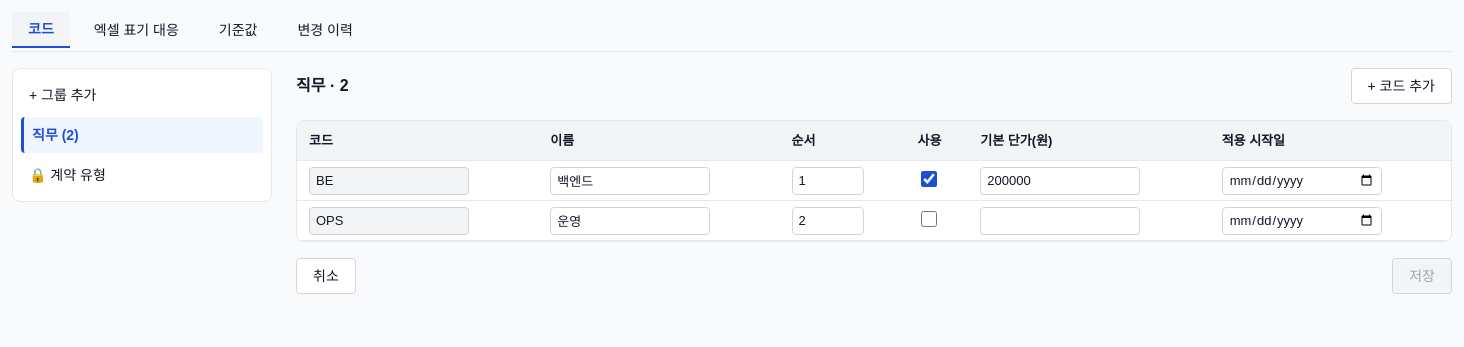
Test: 전체 목록 저장은 식별자 외 wire 필드만 전송하고 204 후 재조회한다
Replace the text in the field named "이름 1" with "새 이름" at (630, 180), box [550, 166, 710, 194]
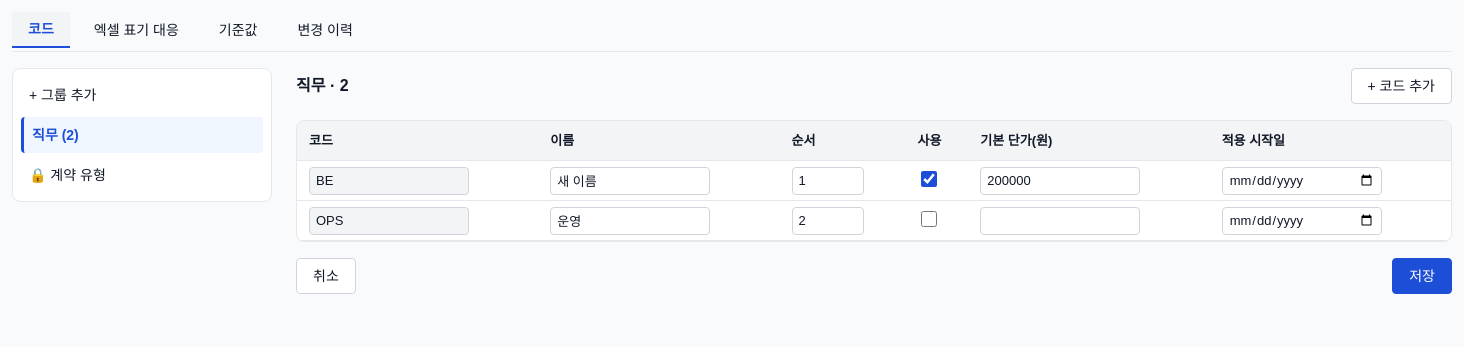
Click the button "저장".
click(1422, 276)  # box [1392, 258, 1452, 294]
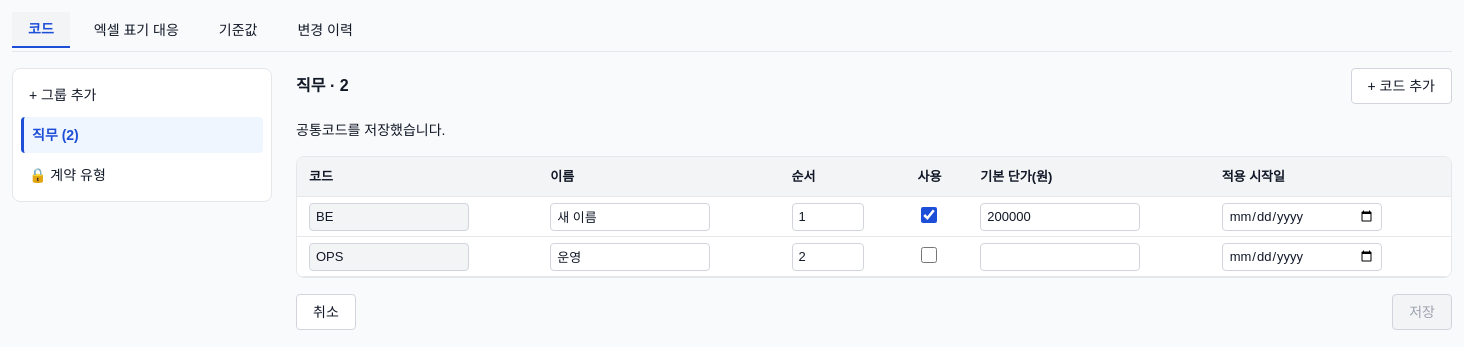
expect the text "공통코드를 저장했습니다." is shown: met, box [296, 122, 446, 138]
